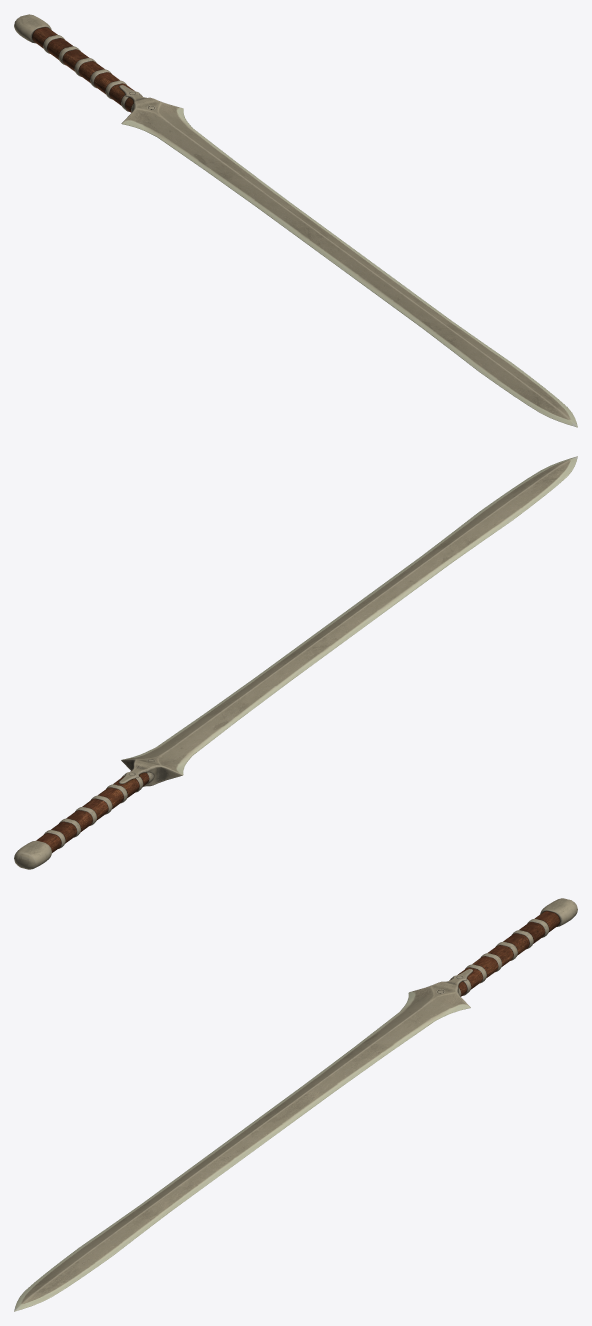
The model's file is Longsword5.FBX.
3 renders of one model, top to bottom at view 1: azimuth 30°, elevation 25°; view 2: azimuth 150°, elevation 25°; view 3: azimuth 330°, elevation 25°, orthographic.
Visible parts, largest first — view 1: Longsword5; view 2: Longsword5; view 3: Longsword5.
Boxes of the visible parts, <box> form: Longsword5: <box>14,14,577,427</box>; Longsword5: <box>14,456,577,869</box>; Longsword5: <box>14,898,577,1311</box>.
Bounding box in the file's own units: 0.0918 × 0.027 × 1.42.
